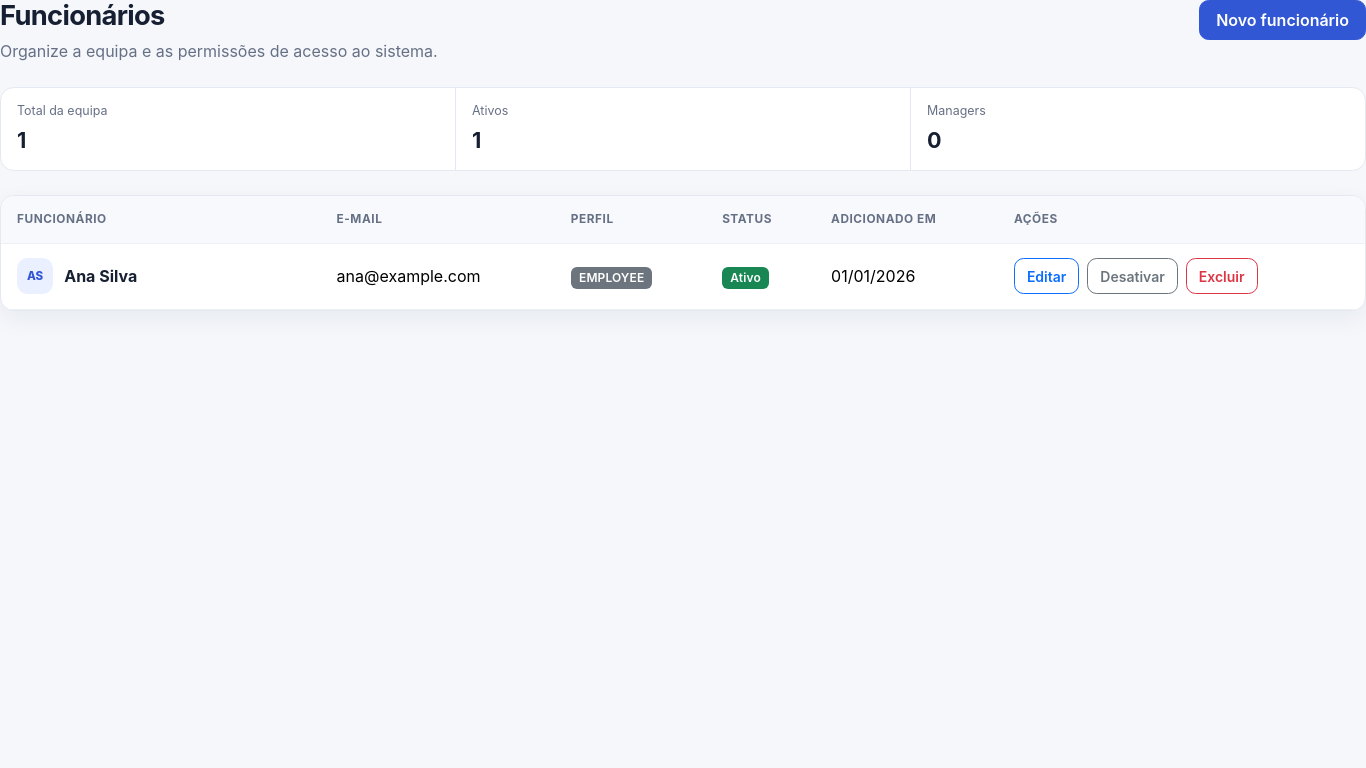
Test: EmployeesPage › edits an employee through the pre-filled form
The image size is (1366, 768).
Expected: the table is shown, [1,196,1365,310]
Click the button "Editar": click(1047, 276) [1014,258,1079,294]
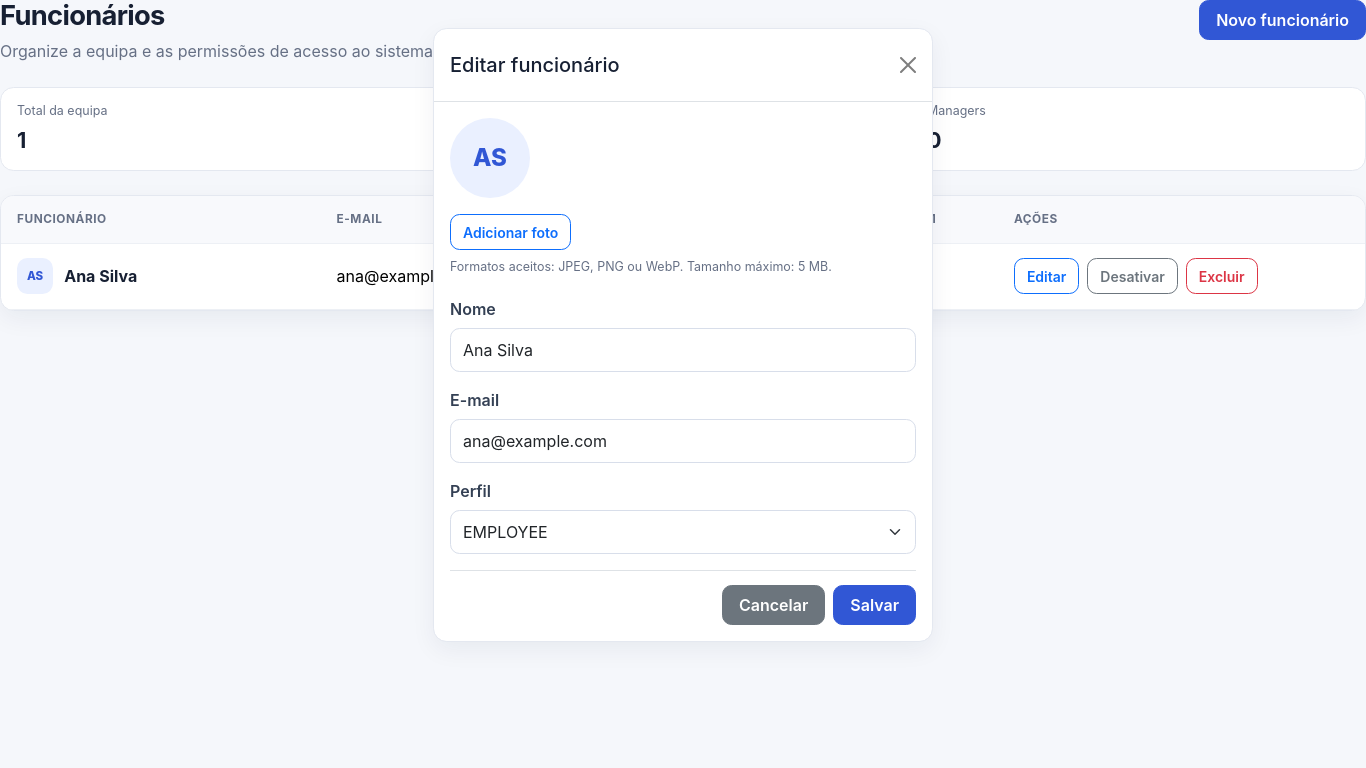
Expected: the field labelled "Nome" holds "Ana Silva"
Expected: the field labelled "E-mail" holds "ana@example.com", [450,419,916,463]
Expected: the dropdown labelled "Perfil" shows "EMPLOYEE", [450,510,916,554]
Replace the text in the field labelled "Nome" with "Ana Souza": (683, 350) [450,328,916,372]
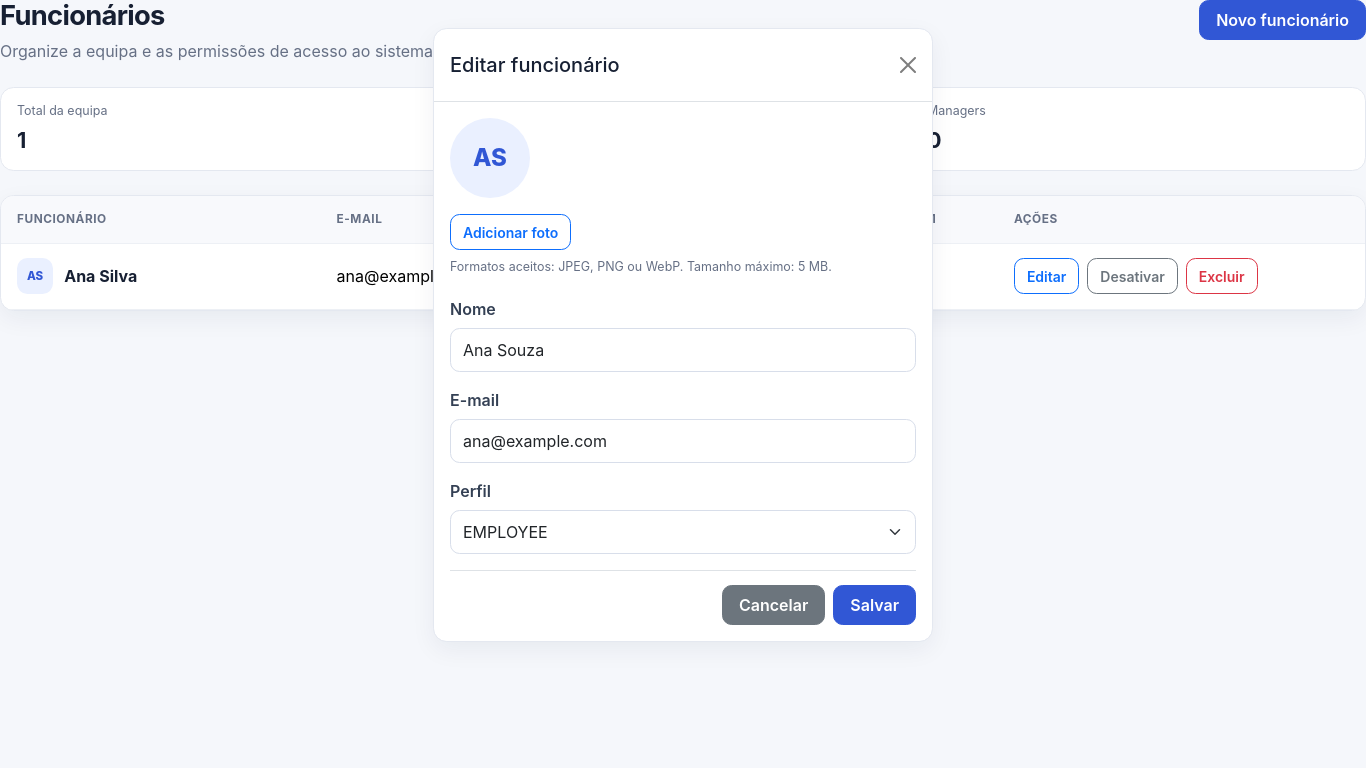
Click the button "Salvar": click(875, 605) [833,585,916,625]
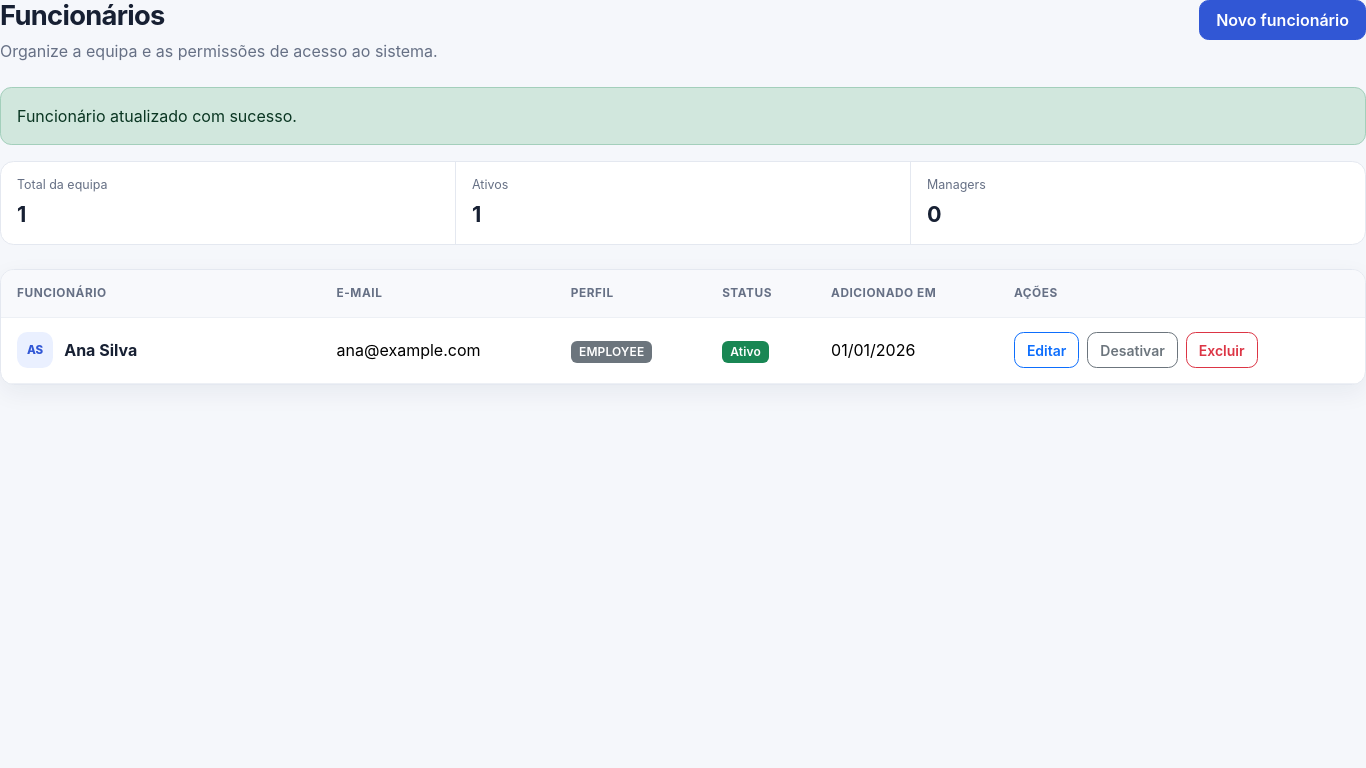
Expected: the text "Funcionário atualizado com sucesso." is shown, [0,87,1365,145]
Expected: the dialog is gone
